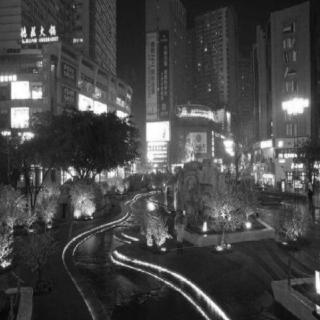other: (6, 78, 34, 130), (144, 110, 176, 153), (77, 92, 107, 118), (278, 97, 310, 121)
